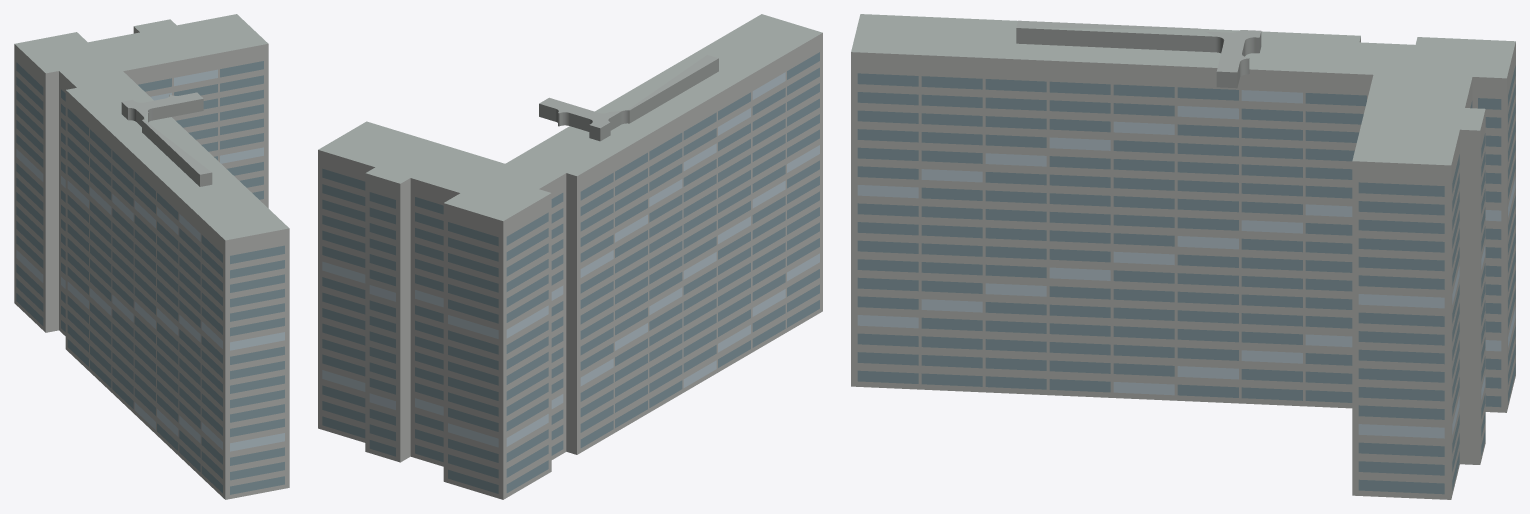
File: apt-a13114106.glb
The picture shows the model from 3 angles, left to right: view 1: azimuth 30°, elevation 25°; view 2: azimuth 150°, elevation 25°; view 3: azimuth 270°, elevation 25°; orthographic projection. The views are drawn at different scales.
Visible parts, largest first — view 1: apt-a13114106; view 2: apt-a13114106; view 3: apt-a13114106.
Part boxes in pixels (x1=…): apt-a13114106: x1=14, y1=14, x2=289, y2=499; apt-a13114106: x1=318, y1=14, x2=822, y2=499; apt-a13114106: x1=851, y1=14, x2=1515, y2=499.
Size of the model in its own units: 45.44 by 49 by 84.29.
